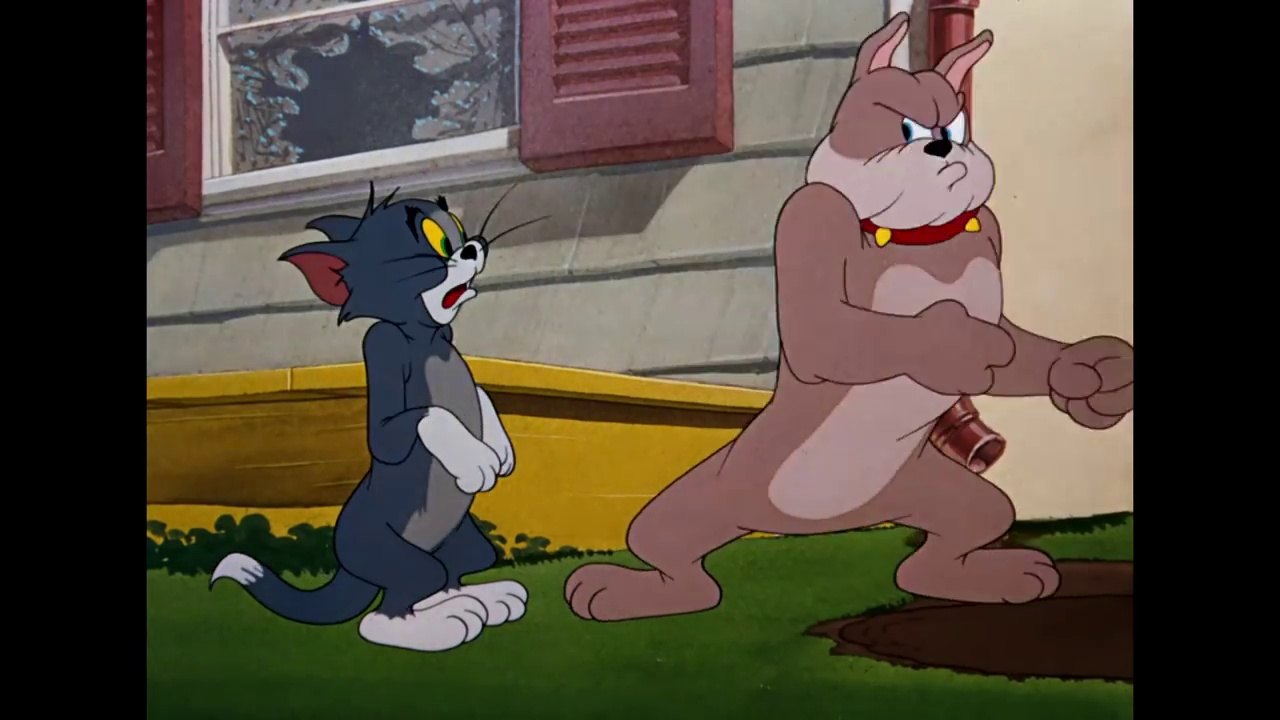spike: (801, 5, 1007, 248)
tom: (275, 181, 491, 332)
